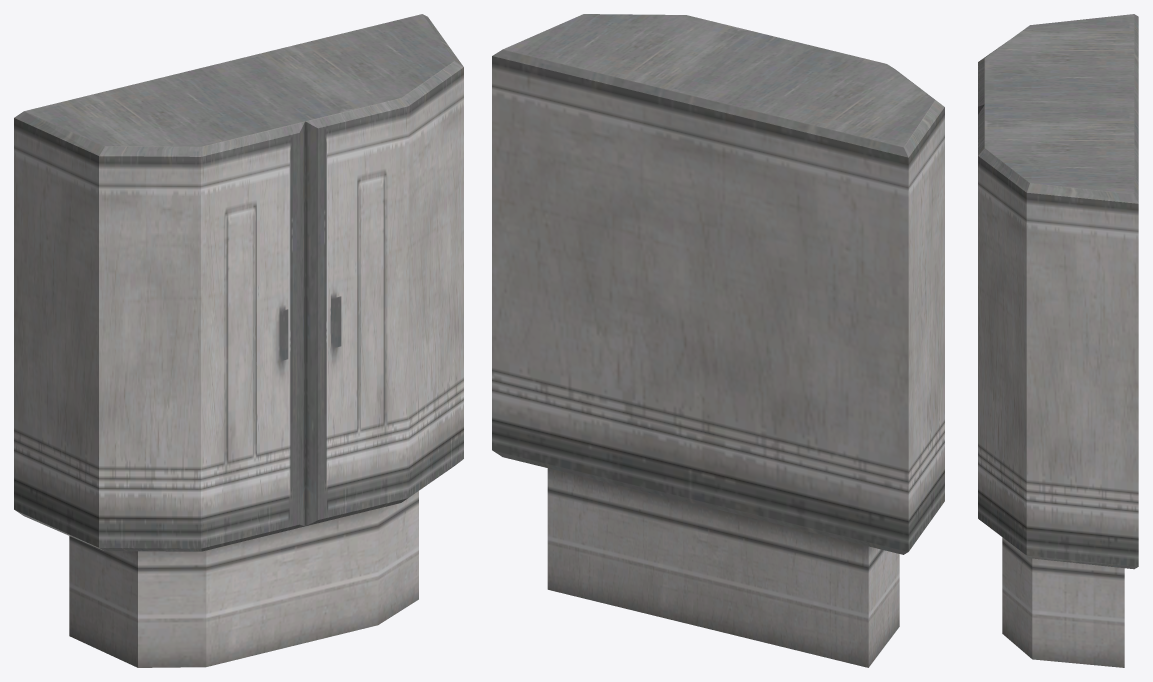
The model's file is frn_all_mdrn_armoire_s01_l1.fbx.
3 renders of one model, left to right at view 1: azimuth 30°, elevation 25°; view 2: azimuth 150°, elevation 25°; view 3: azimuth 270°, elevation 25°, orthographic. The views are drawn at different scales.
Visible parts, largest first — view 1: mesh_node; view 2: mesh_node; view 3: mesh_node.
Part boxes in pixels (<box>): mesh_node: <box>14,14,463,667</box>; mesh_node: <box>492,14,944,667</box>; mesh_node: <box>978,14,1138,667</box>.
Bounding box in the file's own units: 1.8 × 2.21 × 0.6741.
